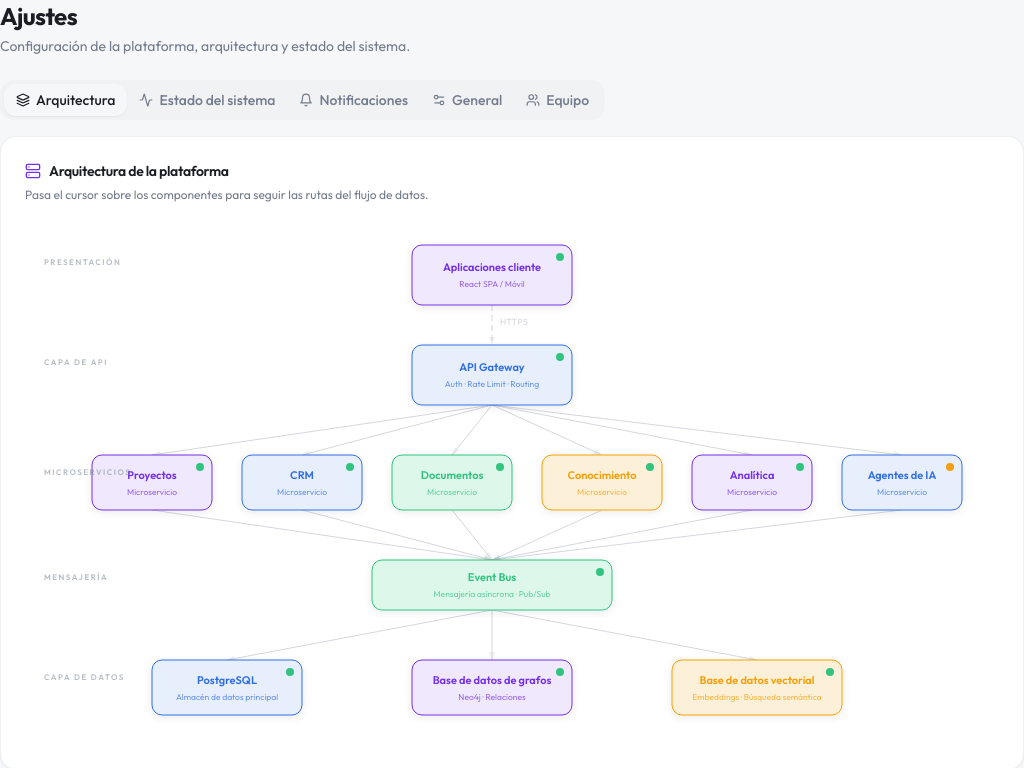
Test: Settings, in Spanish › notifications › saves a per-event toggle
Press the mouse on the tab "Notificaciones" at (354, 100), box top-left (287, 84), bottom-right (420, 116)
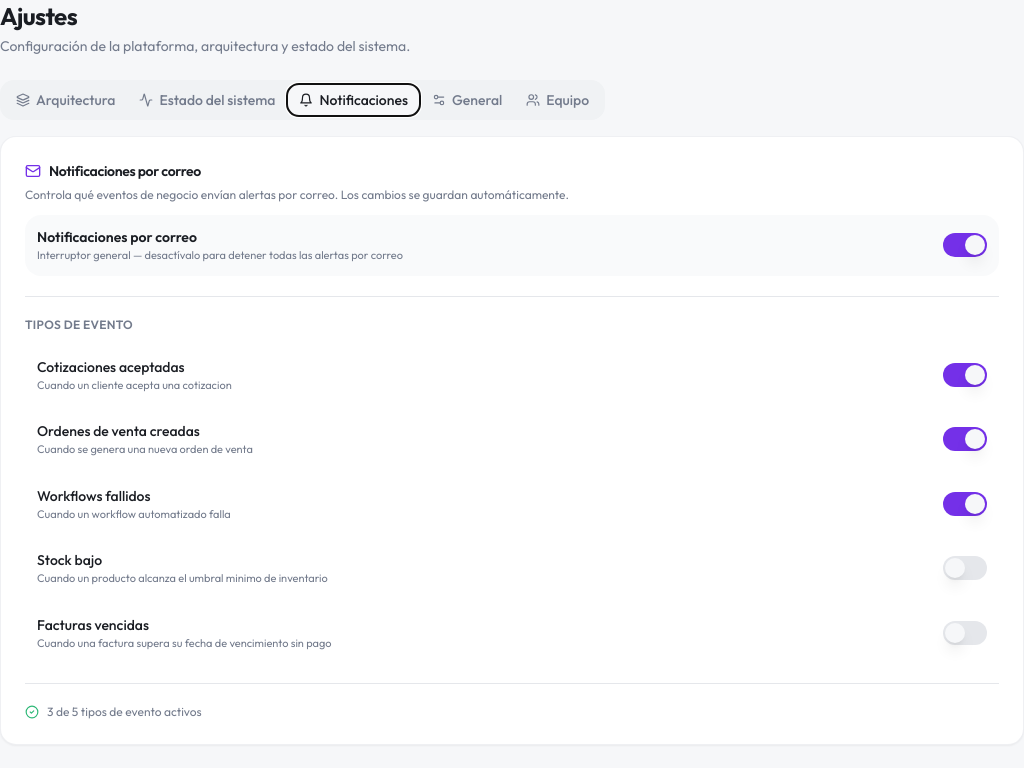
Click the switch named "Facturas vencidas" at (965, 633), box top-left (943, 621), bottom-right (987, 645)
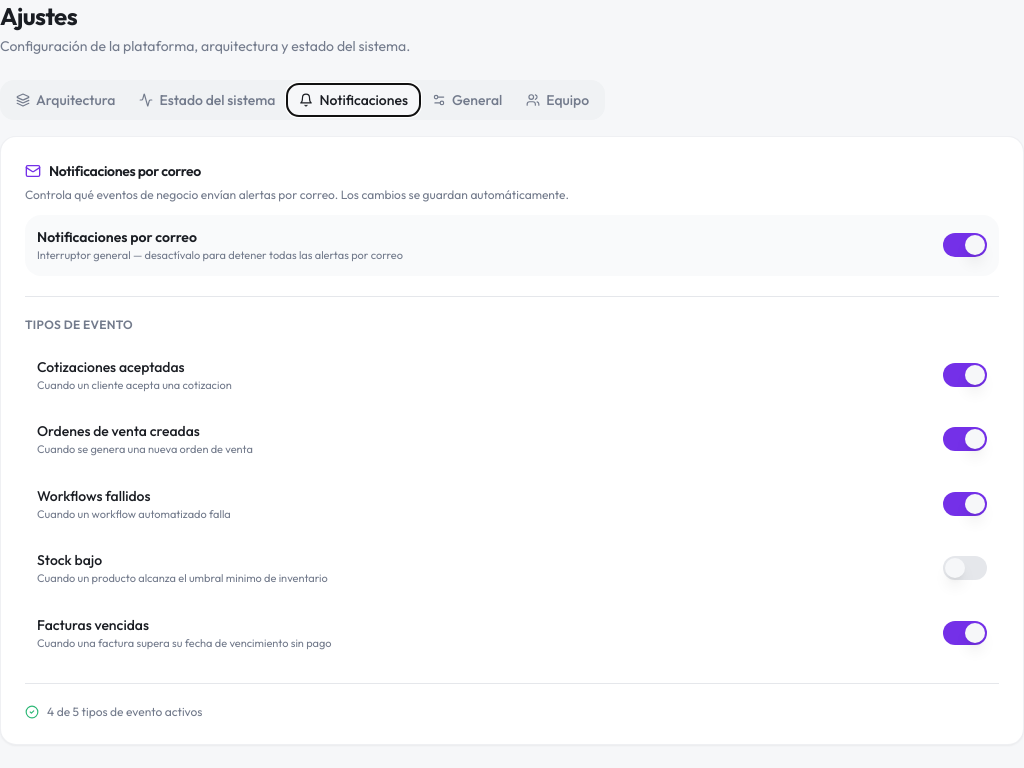
Expected: the text "4 de 5 tipos de evento activos" is shown, top-left (47, 704), bottom-right (202, 720)
